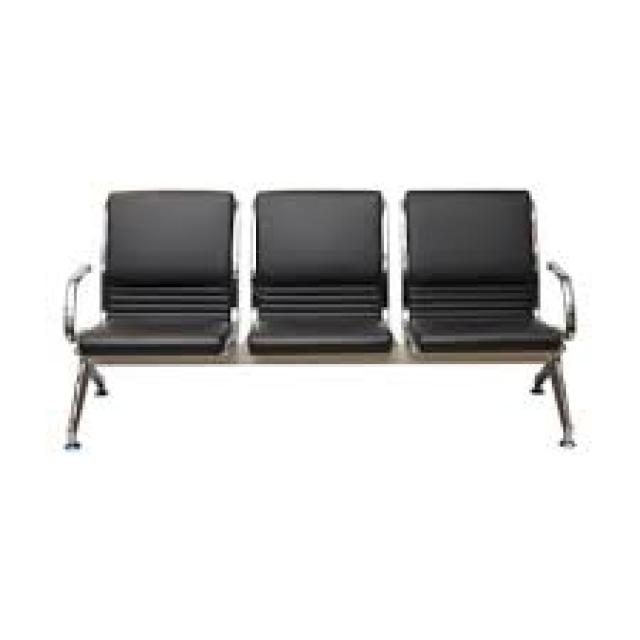chair: (60, 184, 577, 452)
